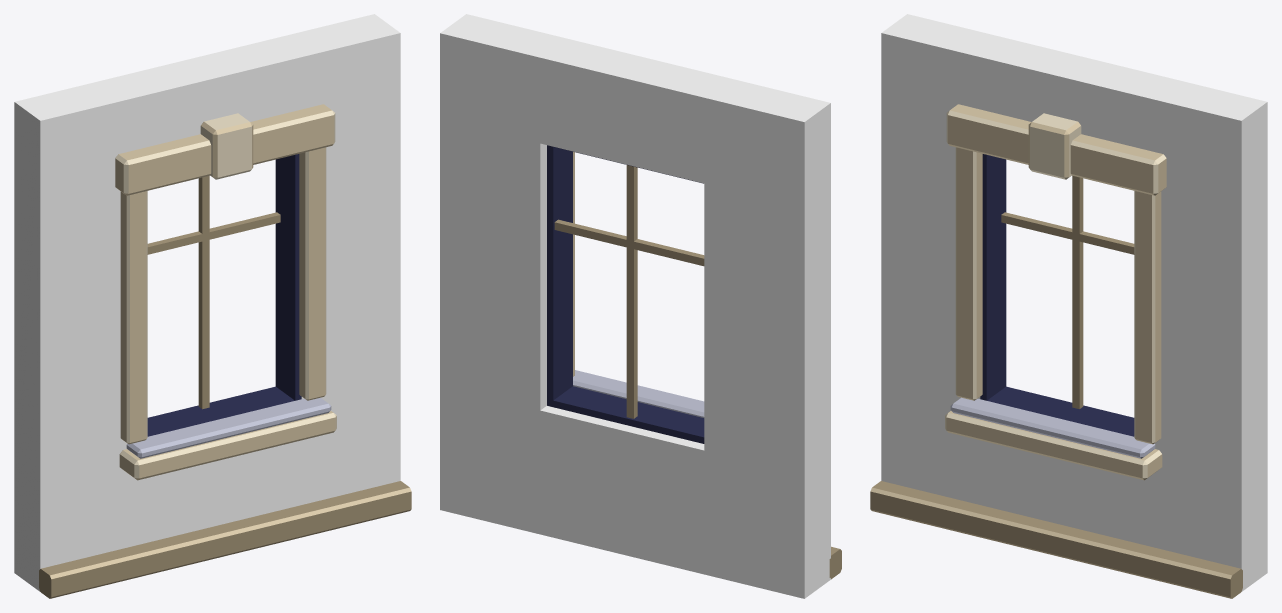
Rendered from Facade_8x10.fbx.
The picture shows the model from 3 angles, left to right: view 1: azimuth 30°, elevation 25°; view 2: azimuth 150°, elevation 25°; view 3: azimuth 330°, elevation 25°; orthographic projection.
Visible parts, largest first — view 1: Facade_8x10_Body, Facade_8x10; view 2: Facade_8x10_Body, Facade_8x10; view 3: Facade_8x10_Body, Facade_8x10.
Part boxes in pixels (x1,y1,x2,y2): Facade_8x10_Body: (14, 14, 400, 591); Facade_8x10: (39, 104, 411, 598); Facade_8x10_Body: (440, 14, 830, 598); Facade_8x10: (547, 145, 841, 579); Facade_8x10_Body: (881, 14, 1267, 591); Facade_8x10: (870, 104, 1242, 598).
Bounding box in the file's own units: 8 × 10 × 1.65.
Materials: 1 (1 with a texture image).
